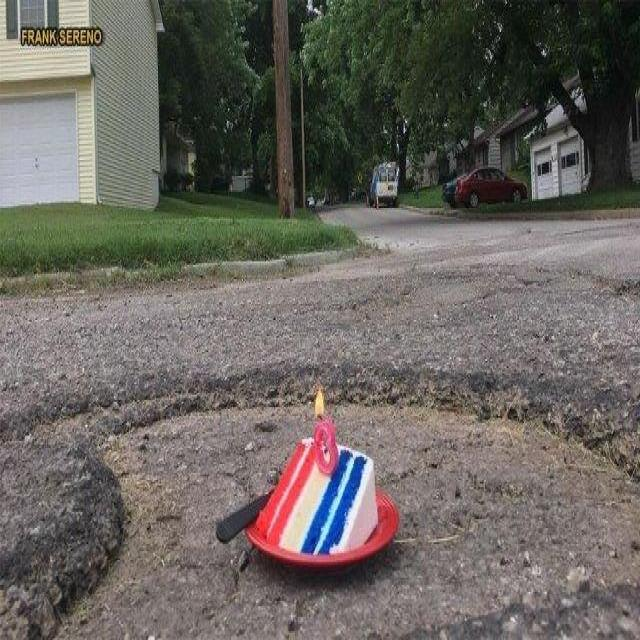jalan retak: (310, 257, 580, 337)
lubang: (56, 367, 640, 639), (0, 350, 231, 461), (0, 517, 74, 640), (563, 238, 640, 345)
